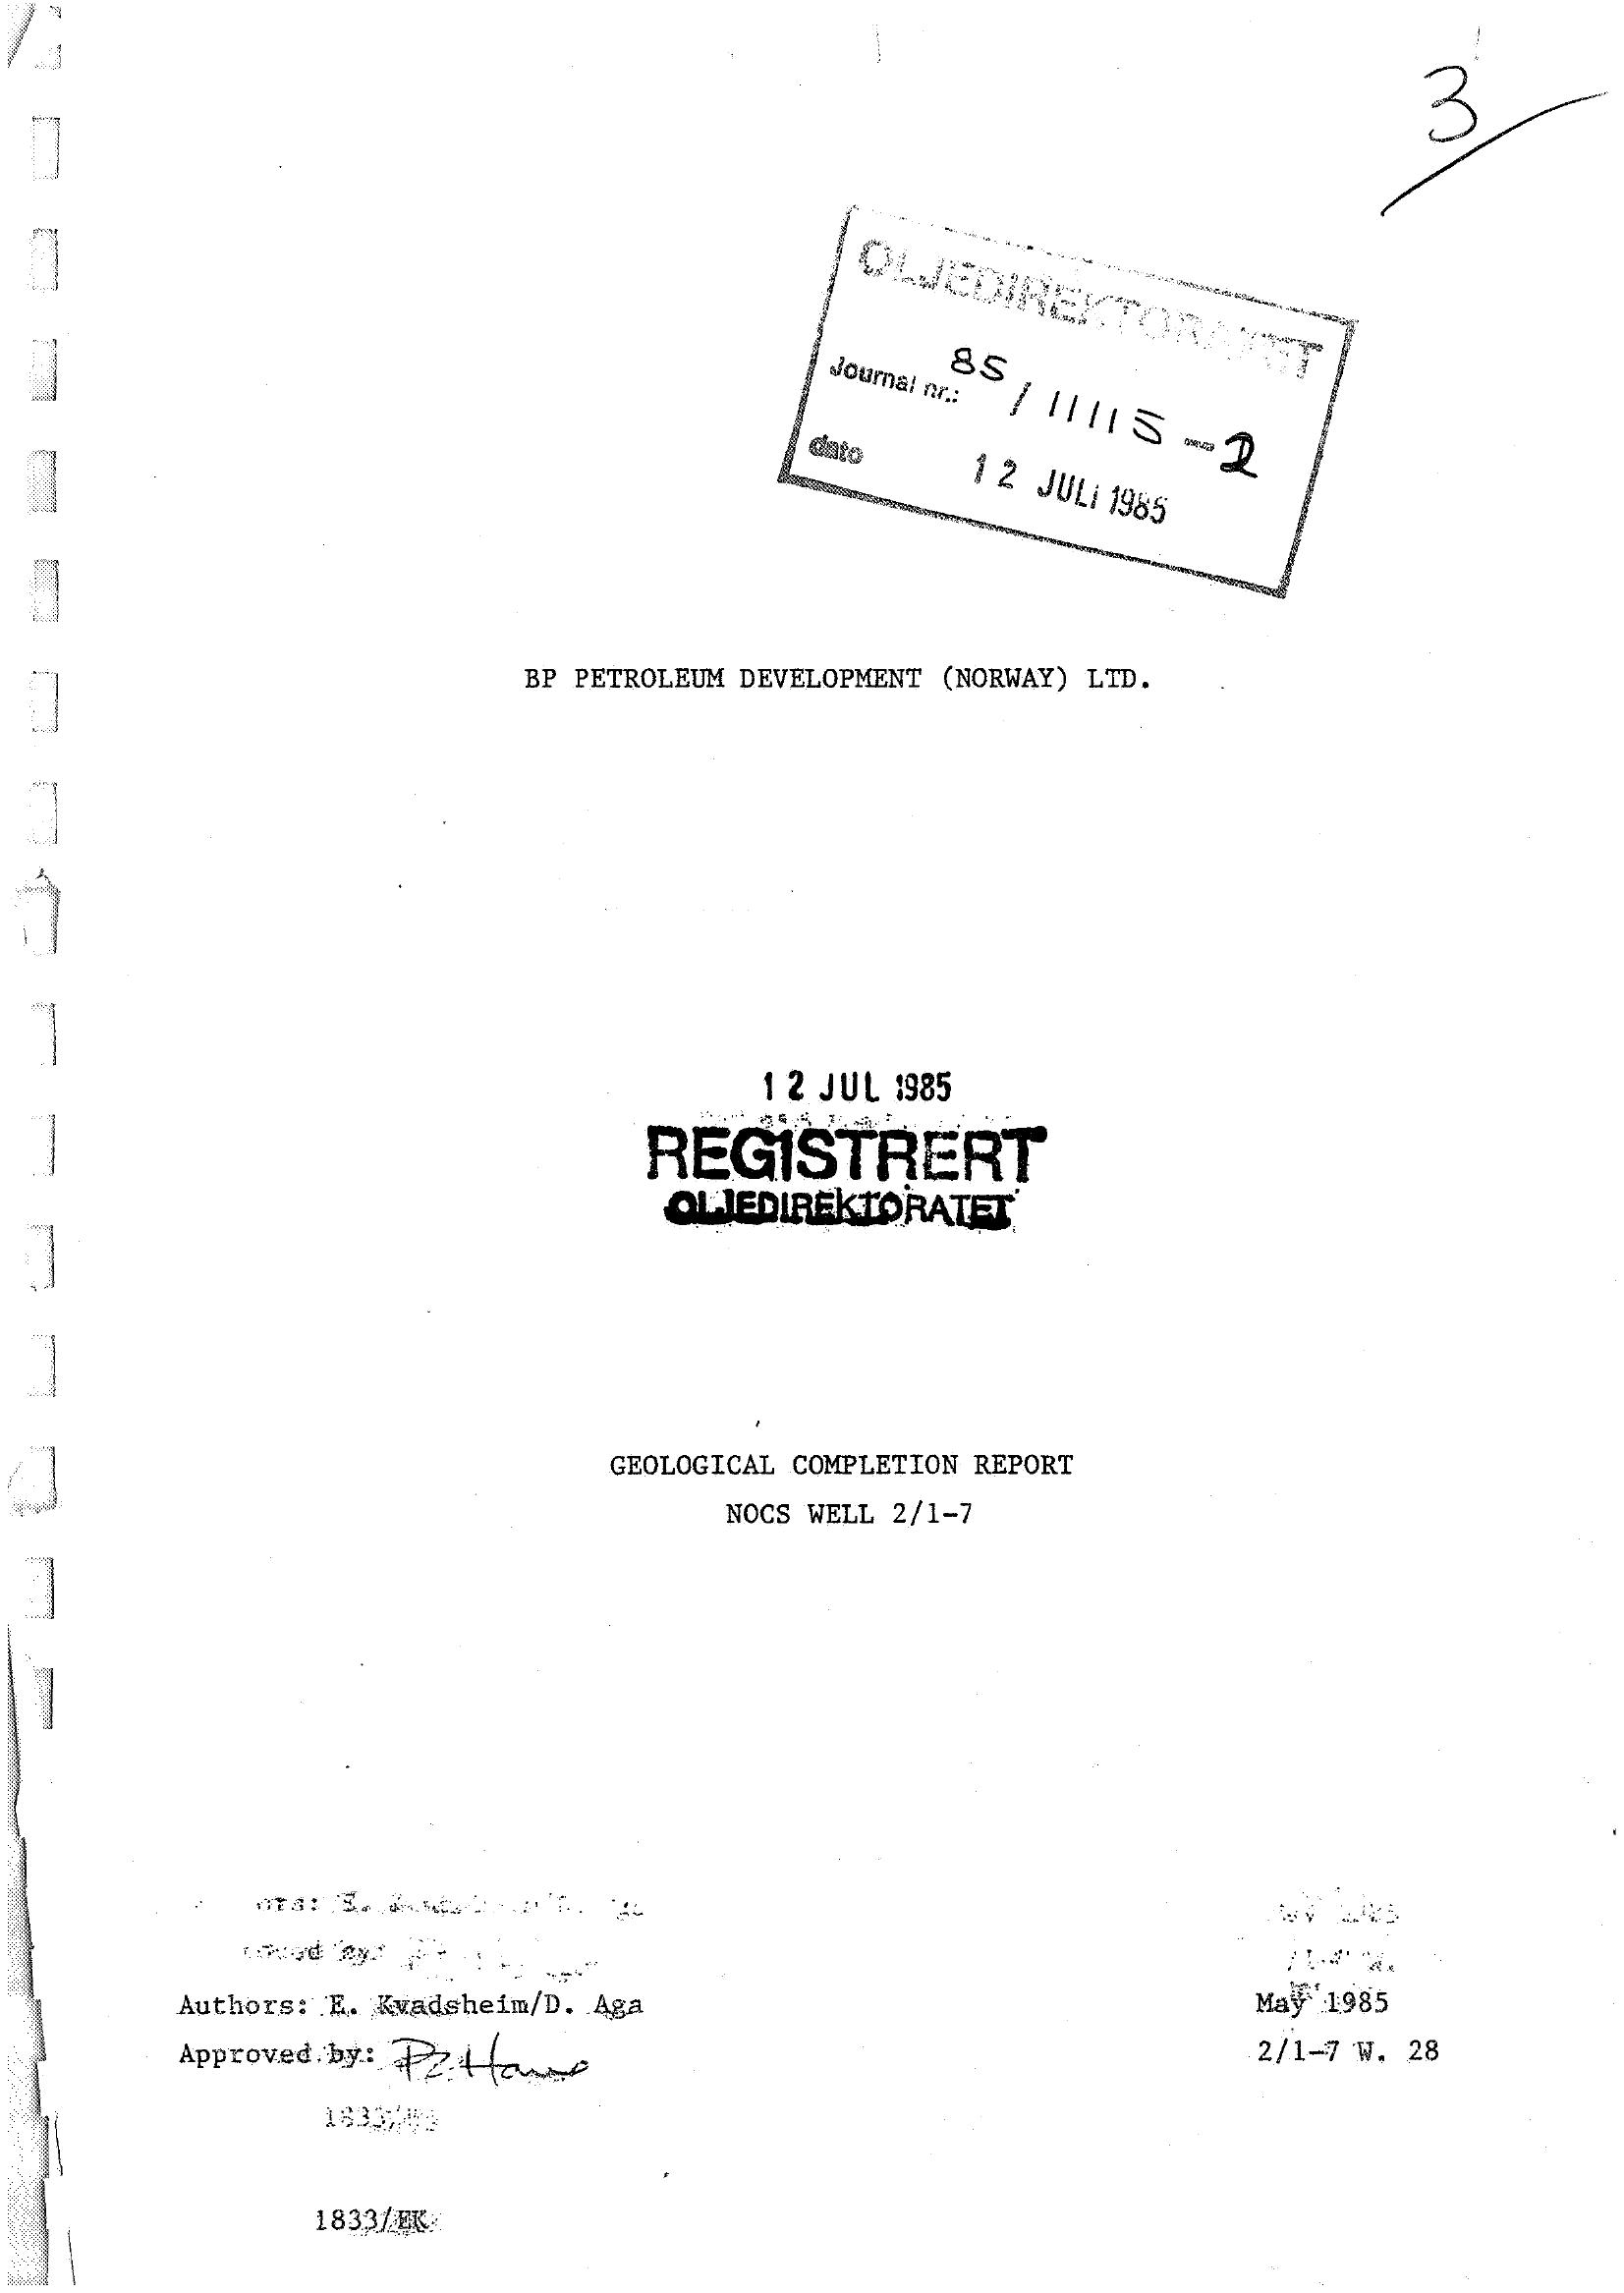text: (584, 1427, 1097, 1567), (497, 650, 1179, 722)
undefined: (768, 192, 1399, 624), (127, 1834, 682, 2260), (571, 1007, 1114, 1269), (1164, 1829, 1512, 2156)
